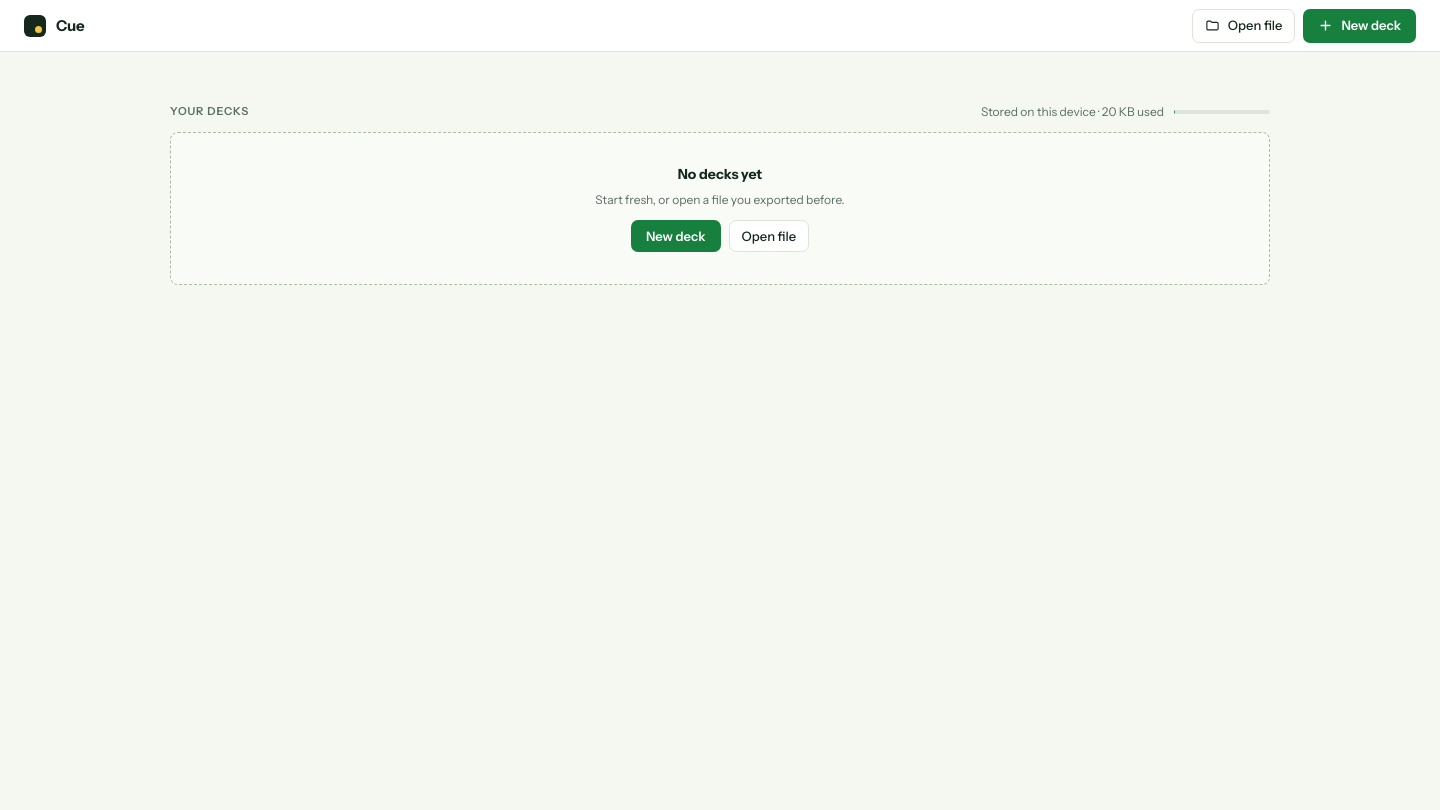
Test: Given the library, When New deck is chosen, Then a deck with one slide is stored and opened in the editor
Click the button "New deck" in the row of "Cue" at (1360, 26), box [1303,8,1416,42]
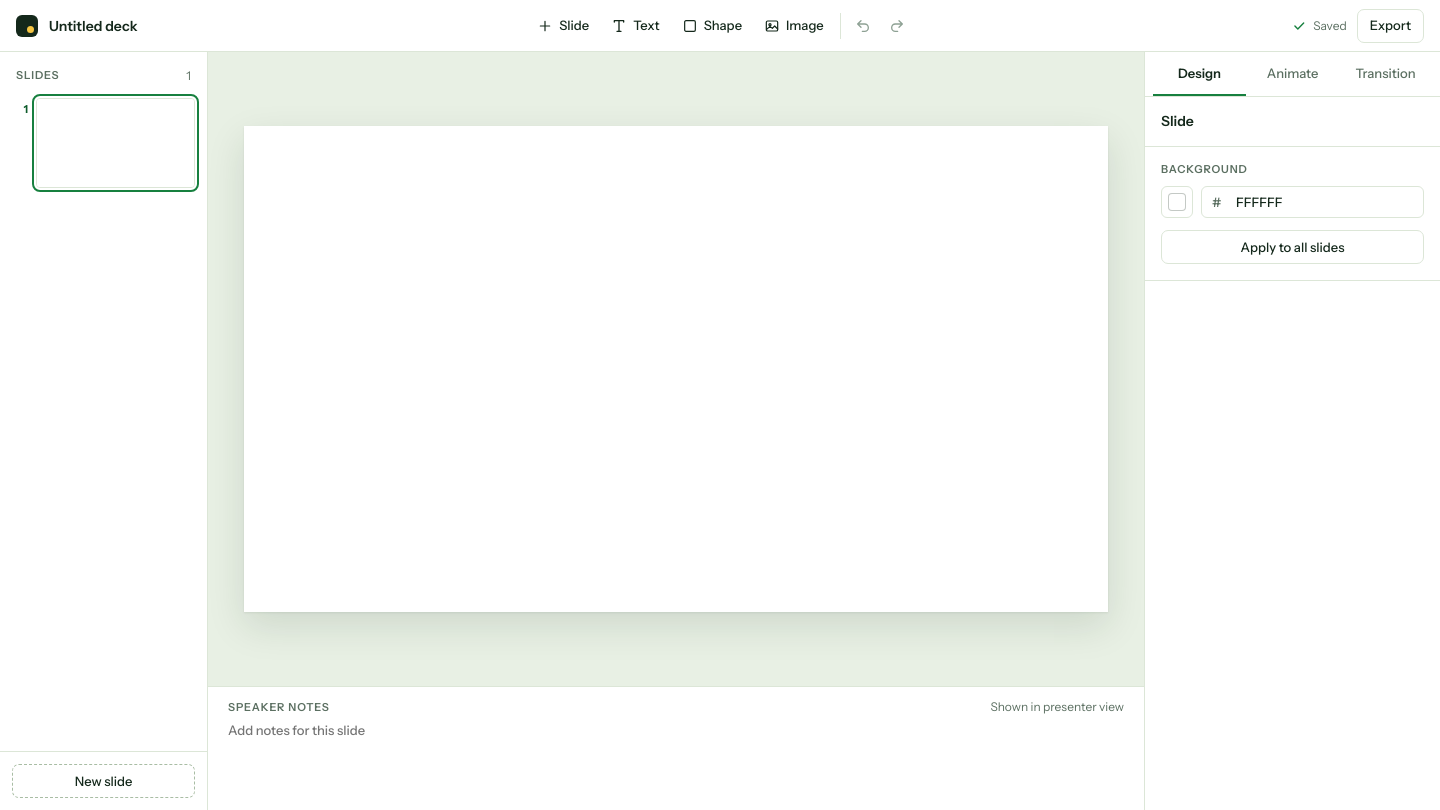
Now the option named "Slide 1" is shown, box [12,98,195,188]
